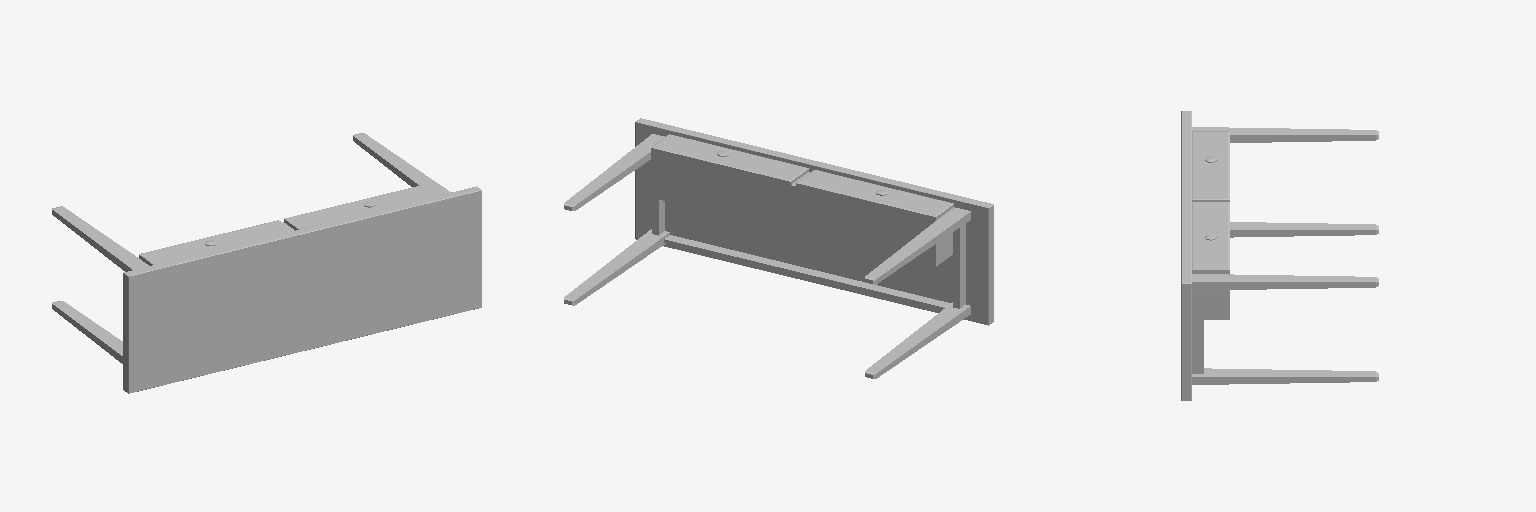
File: walls_with_bodies.obj
3 renders of one model, left to right at view 1: azimuth 30°, elevation 25°; view 2: azimuth 150°, elevation 25°; view 3: azimuth 270°, elevation 25°, orthographic.
Parts seen in each view (by area): view 1: mesa parede tvs; view 2: mesa parede tvs; view 3: mesa parede tvs.
Boxes of the visible parts, x1=… form: mesa parede tvs: x1=52, y1=133, x2=481, y2=393; mesa parede tvs: x1=564, y1=118, x2=993, y2=378; mesa parede tvs: x1=1181, y1=111, x2=1378, y2=400.
Bounding box in the file's own units: 181 × 57.63 × 87.42.